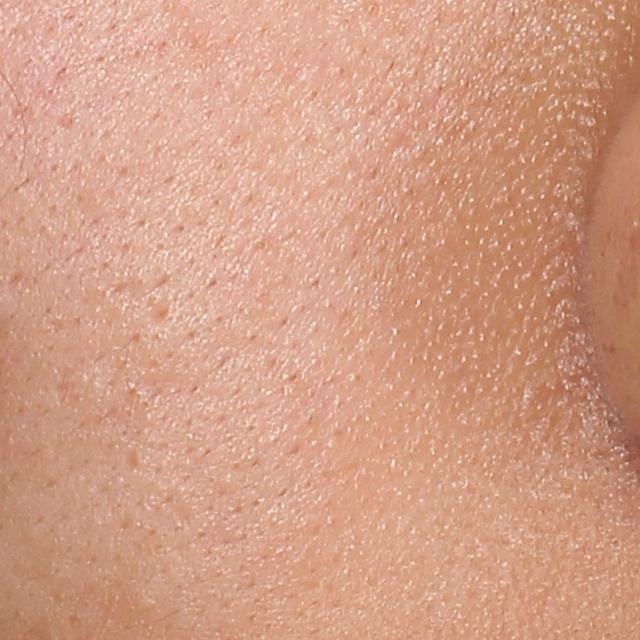atrophic_scar: (5, 267, 27, 290), (123, 446, 141, 474), (150, 301, 171, 323)
